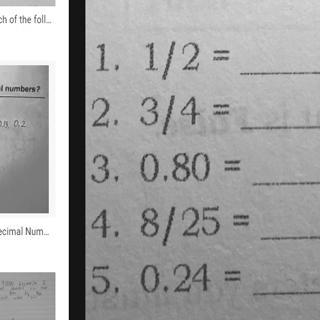.: (111, 114, 123, 126), (160, 172, 171, 184), (112, 229, 123, 241), (112, 60, 122, 72), (112, 285, 124, 295), (112, 173, 121, 186), (160, 283, 171, 293)
0: (135, 264, 160, 298), (192, 149, 213, 183), (141, 152, 158, 181)
1: (96, 40, 112, 77), (143, 41, 159, 70)
2: (179, 41, 205, 74), (172, 261, 193, 295), (91, 95, 111, 130), (181, 206, 201, 241)
3: (136, 96, 161, 129), (90, 153, 111, 185)
4: (89, 207, 112, 241), (190, 263, 214, 294), (180, 95, 202, 128)
5: (200, 204, 222, 237), (91, 264, 111, 297)
8: (138, 205, 162, 240), (172, 152, 192, 185)
